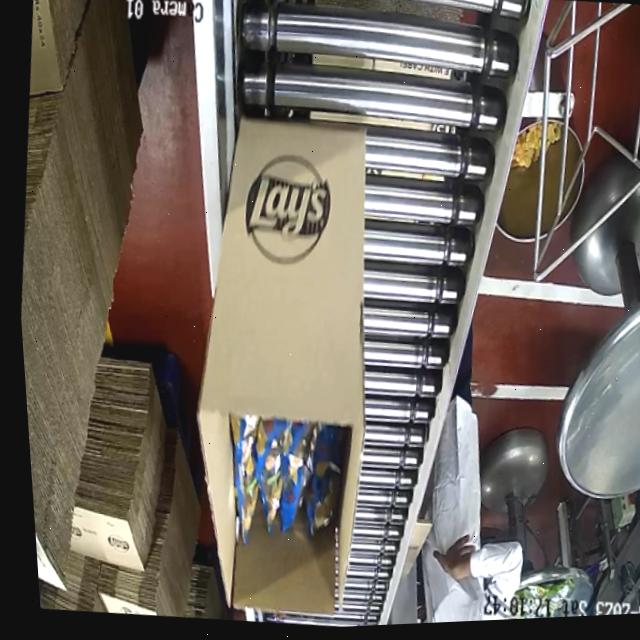PAPRIKA: (222, 415, 361, 549)
